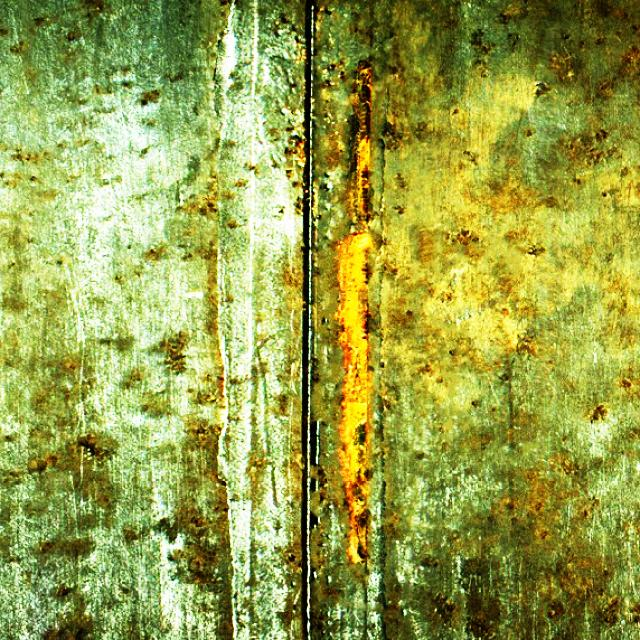Corrosion: (334, 229, 374, 563), (347, 59, 373, 225)
